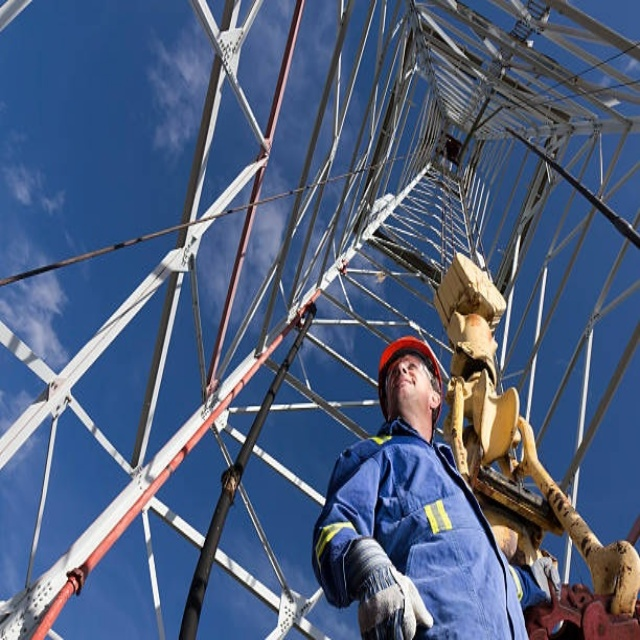Guantes: (344, 535, 434, 634)
Sin_mascara: (390, 369, 419, 398)
